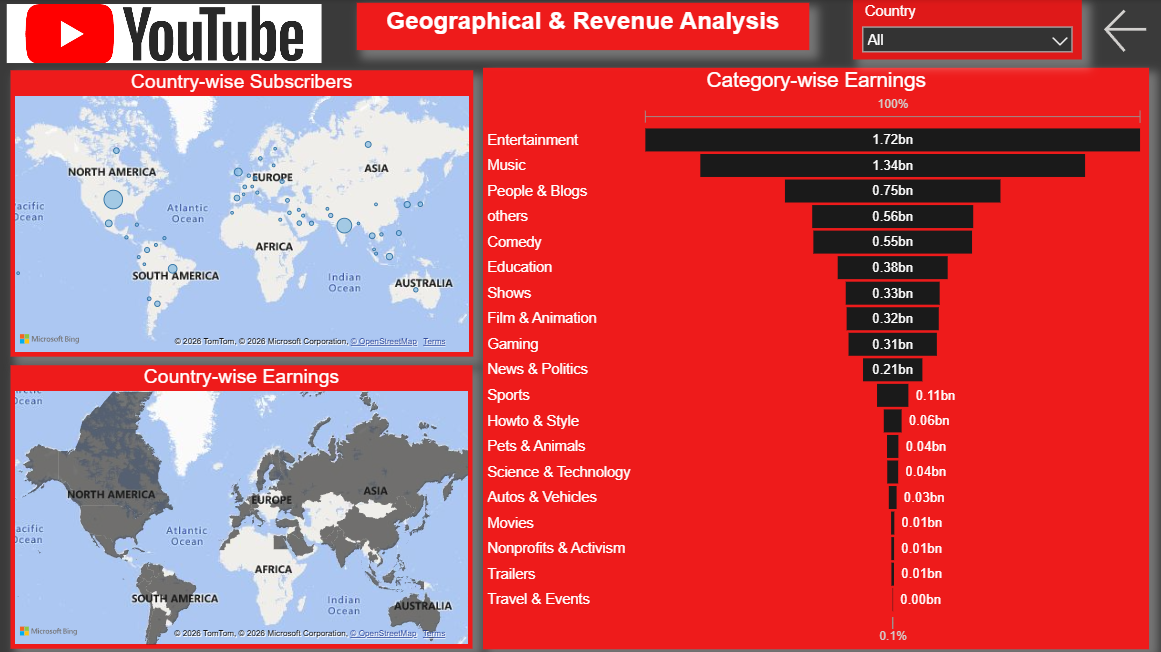

The dashboard page shown, as its layout file describes it:
{"tool":"powerbi","page":{"name":"Geographic & Revenue Analysis","canvas":[1280,720],"ordinal":2},"visuals":[{"type":"map","title":"Country-wise Subscribers","fields":{"Category":["GlobalYouTubeStatistics.Country"],"Size":["Sum(GlobalYouTubeStatistics.subscribers)"]},"box":[13.7,78.2,507.7,314.2],"z":0},{"type":"filledMap","title":"Country-wise Earnings","fields":{"Category":["GlobalYouTubeStatistics.Country"]},"box":[14.2,402.2,507.2,311.5],"z":1000},{"type":"funnel","title":"Category-wise Earnings","fields":{"Category":["GlobalYouTubeStatistics.category"],"Y":["Sum(GlobalYouTubeStatistics.Estimated Average Earnings)"]},"box":[532.2,75,731.5,638],"z":2000},{"type":"textbox","box":[393.3,3.6,496.6,52],"z":3000},{"type":"image","box":[9,5,345.3,65],"z":4000},{"type":"actionButton","box":[1208.5,5.3,71.2,58.7],"z":5000},{"type":"slicer","fields":{"Values":["GlobalYouTubeStatistics.Country"]},"box":[937.9,0,250.9,66],"z":6000}]}

Visuals, with their boxes in screenshot pixels (x1, y1, x2, y2), scaled from the page's 1280x720 canvas onto the 1161x652 screenshot:
"Country-wise Subscribers" map: box(12, 71, 473, 355)
"Country-wise Earnings" filledMap: box(13, 364, 473, 646)
"Category-wise Earnings" funnel: box(483, 68, 1146, 646)
textbox: box(357, 3, 807, 50)
image: box(8, 5, 321, 63)
actionButton: box(1096, 5, 1160, 58)
slicer - GlobalYouTubeStatistics.Country: box(851, 0, 1078, 60)
